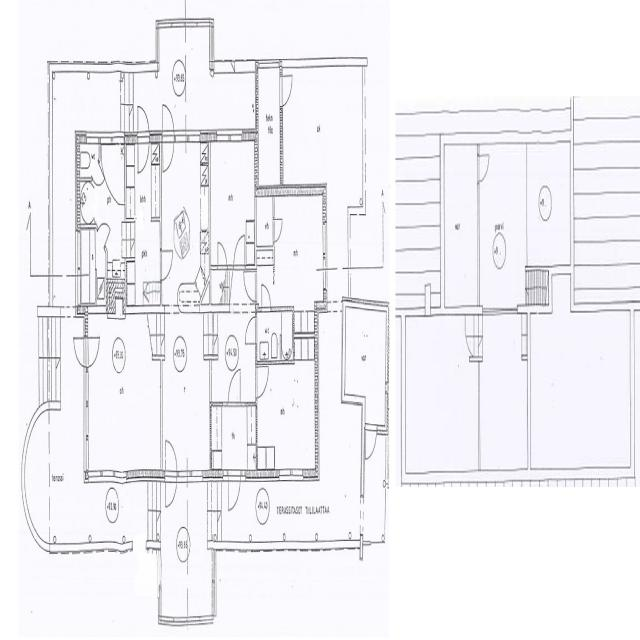door: (160, 101, 175, 174), (135, 102, 150, 174), (464, 314, 483, 362), (163, 437, 178, 497), (73, 332, 93, 368), (83, 331, 101, 369), (227, 365, 242, 407), (227, 471, 241, 515), (164, 469, 178, 512), (363, 423, 378, 462), (279, 71, 294, 108), (255, 363, 270, 399), (232, 231, 246, 269), (476, 150, 491, 185), (160, 247, 174, 282), (243, 269, 257, 303), (244, 312, 258, 346), (214, 238, 228, 270), (259, 282, 272, 314), (272, 215, 284, 244)
window: (87, 465, 126, 489), (276, 464, 308, 486), (173, 125, 202, 148), (214, 125, 245, 145), (322, 208, 328, 263), (358, 494, 364, 536)
zone: (527, 296, 635, 478), (402, 311, 481, 479), (88, 133, 164, 307), (86, 313, 163, 480), (280, 63, 364, 195), (479, 310, 530, 482), (160, 137, 210, 308), (479, 143, 526, 311), (164, 310, 211, 478), (255, 359, 316, 476), (274, 192, 325, 321), (209, 136, 256, 268), (126, 139, 161, 308), (444, 142, 478, 310), (527, 139, 570, 271), (342, 306, 388, 417), (160, 482, 191, 627), (78, 137, 125, 221), (211, 309, 245, 406), (256, 65, 282, 189), (211, 403, 252, 478), (76, 224, 105, 308), (256, 309, 282, 364), (255, 189, 275, 253), (209, 269, 231, 309)
